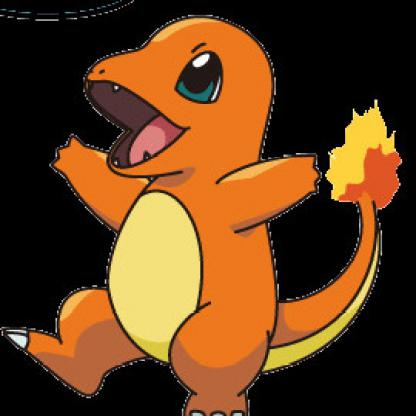Charmander: (1, 2, 416, 404)
